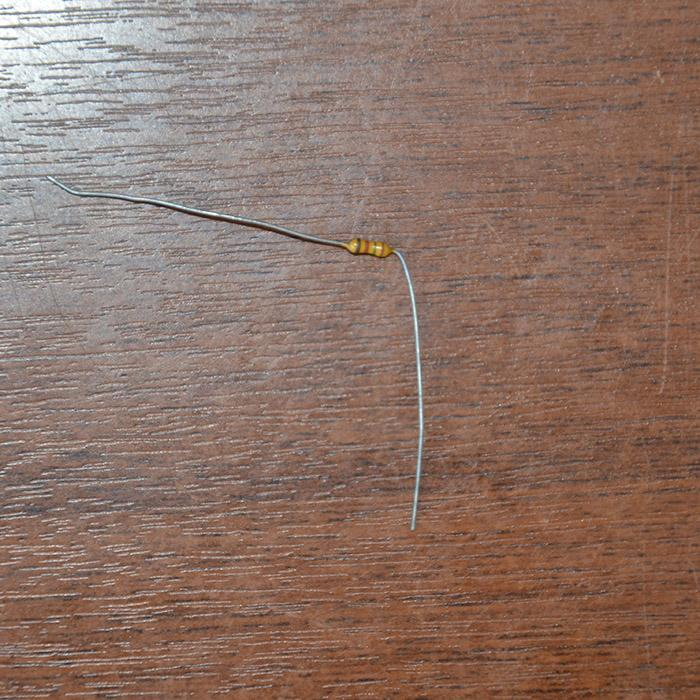resistor: (344, 237, 392, 257)
